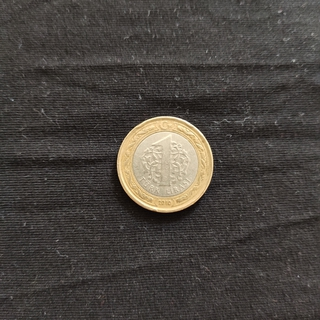1TL: (114, 114, 216, 215)
